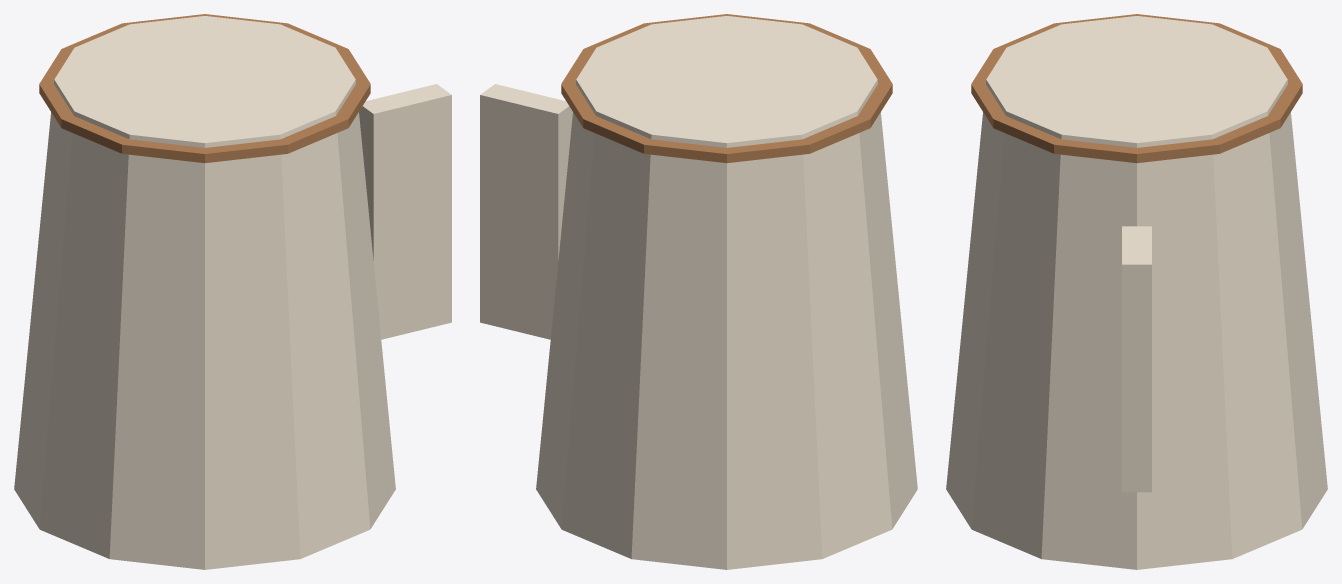
The model's file is coffee.glb.
3 views of the same model, side by side, from view 1: azimuth 30°, elevation 25°; view 2: azimuth 150°, elevation 25°; view 3: azimuth 270°, elevation 25° (orthographic).
Visible parts, largest first — view 1: prop_coffee; view 2: prop_coffee; view 3: prop_coffee.
Part boxes in pixels (left/top/right/bottom): prop_coffee: left=14, top=14, right=451, bottom=569; prop_coffee: left=480, top=14, right=917, bottom=569; prop_coffee: left=946, top=14, right=1327, bottom=569.
Size of the model in its own units: 0.093 by 0.09 by 0.076.
